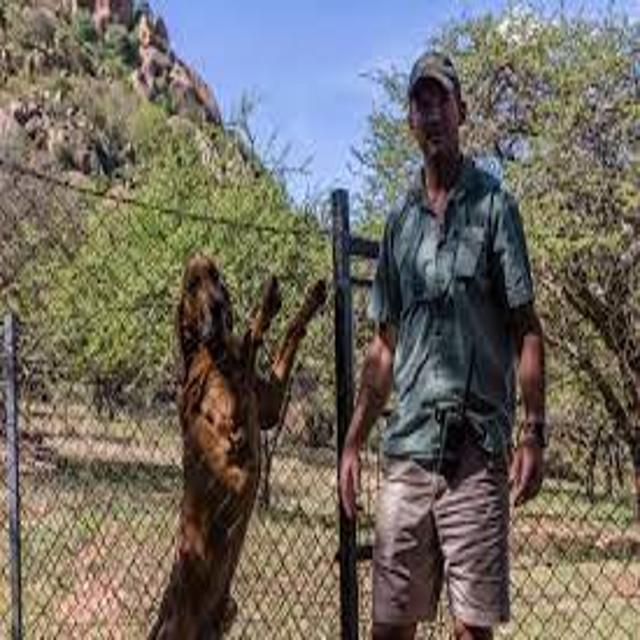poacher: (284, 30, 617, 640)
